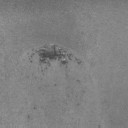iron sheet ash: (26, 43, 82, 76)
